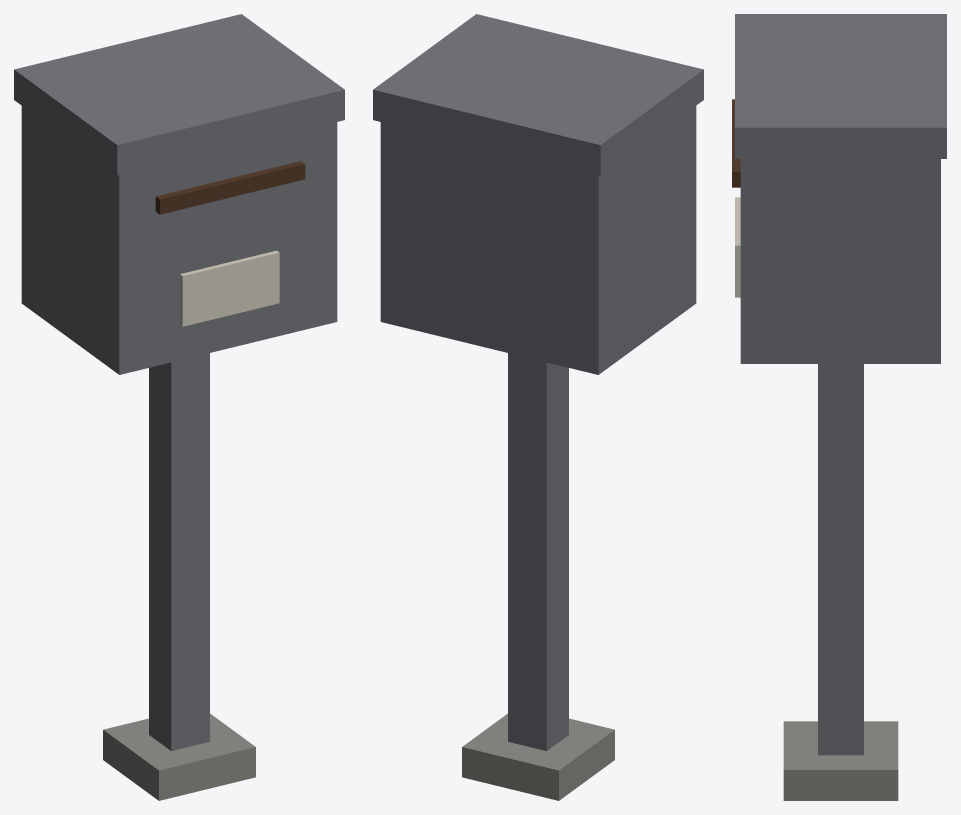
The model's file is PRP_P1_Mailbox_A.obj.
3 renders of one model, left to right at view 1: azimuth 30°, elevation 25°; view 2: azimuth 150°, elevation 25°; view 3: azimuth 270°, elevation 25°, orthographic. The views are drawn at different scales.
Parts seen in each view (by area): view 1: body, lid, post, base, plate, slot; view 2: body, lid, post, base; view 3: body, lid, post, base, plate, slot.
Boxes of the visible parts, x1,y1,x2,y2 form: body: (21, 106, 337, 374); lid: (14, 14, 344, 175); post: (149, 353, 209, 750); base: (103, 713, 255, 800); plate: (180, 250, 279, 326); slot: (155, 161, 305, 214); body: (380, 106, 696, 374); lid: (373, 14, 703, 175); post: (508, 353, 568, 750); base: (462, 713, 614, 800); body: (740, 159, 940, 363); lid: (735, 14, 946, 158); post: (818, 364, 863, 755); base: (783, 721, 898, 800); plate: (735, 197, 740, 297); slot: (732, 99, 740, 187).
Size of the model in its own units: 0.47 by 1.36 by 0.375.
